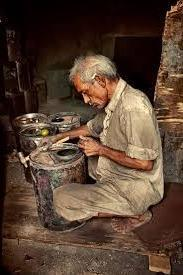Human: (45, 60, 182, 238)
